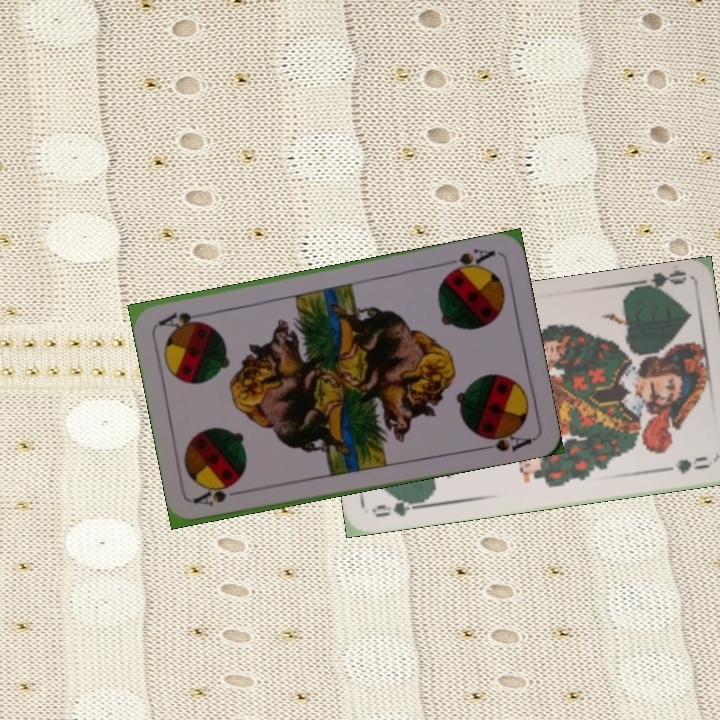GO: (628, 267, 688, 297), (368, 493, 427, 520)
SA: (442, 244, 498, 277), (190, 481, 250, 509)
